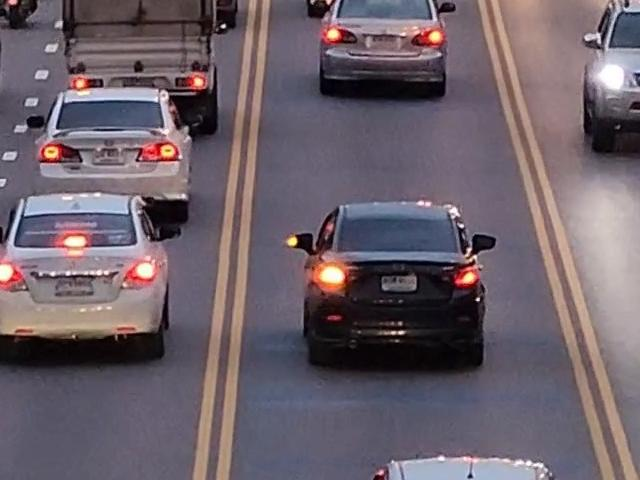car: (293, 195, 493, 378), (0, 188, 180, 371), (30, 88, 210, 218), (330, 0, 460, 94), (576, 0, 640, 158)
motorcycle: (0, 0, 32, 33)
truck: (56, 0, 233, 125)
